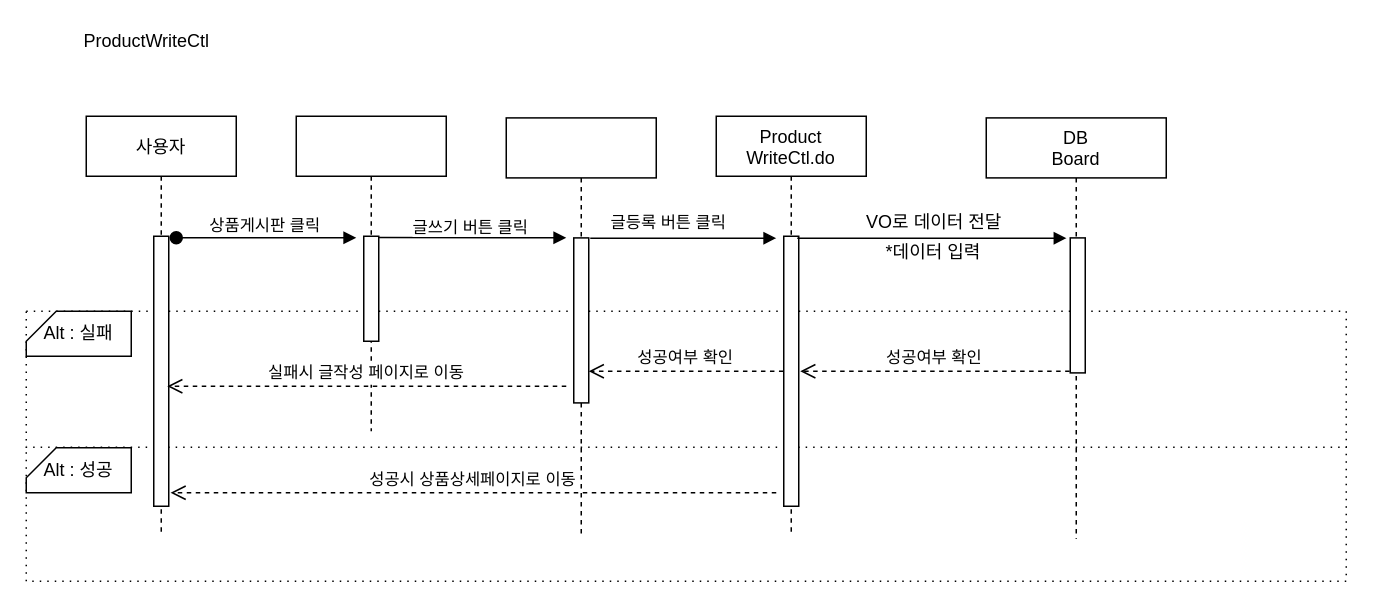
Some shapes in this 1373 by 608 pixel diagram are drawn without their labels. Here are the shapes that lost their labels. From the top down, the box of each, then its label:
(295, 115, 446, 431): Productlist.jsp
(505, 116, 656, 538): Productwrite.jsp
